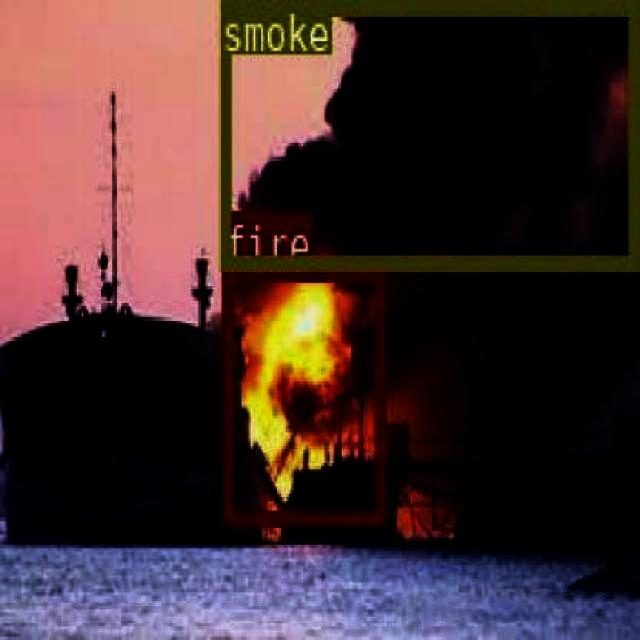fire: (222, 262, 384, 522)
smoke: (220, 0, 636, 266)
